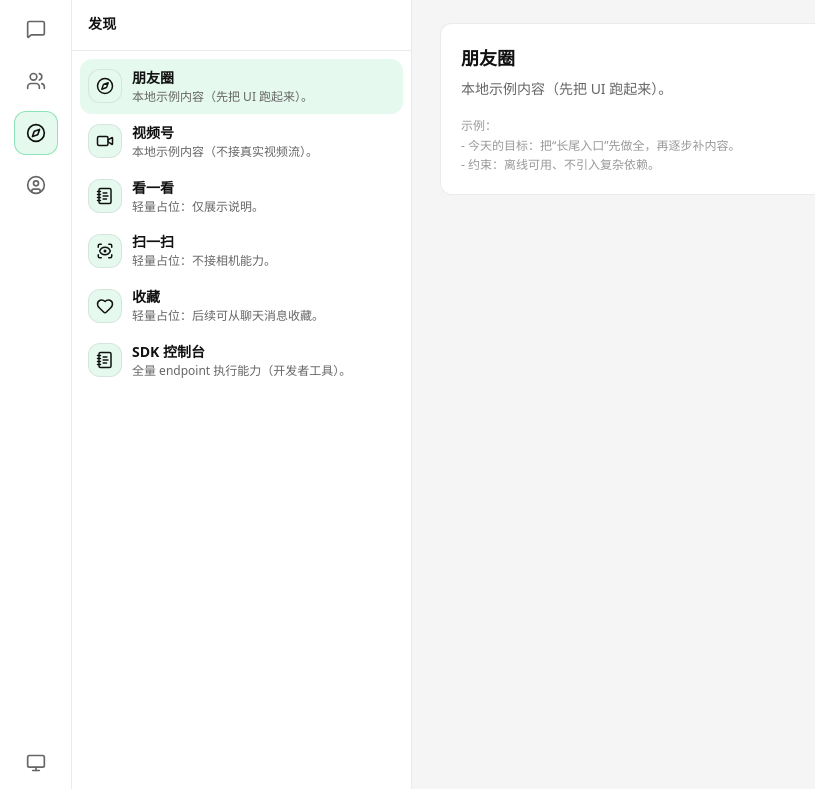
Test: DiscoverPanel › 点击发现入口会切换右栏内容（非 SDK 控制台入口）
expect the list named "发现入口列表" is shown: met, box [72,51,411,396]
expect the heading "朋友圈" is shown: met, box [461,46,515,70]
Click the text "收藏" at [146, 297], box [132,287,160,306]
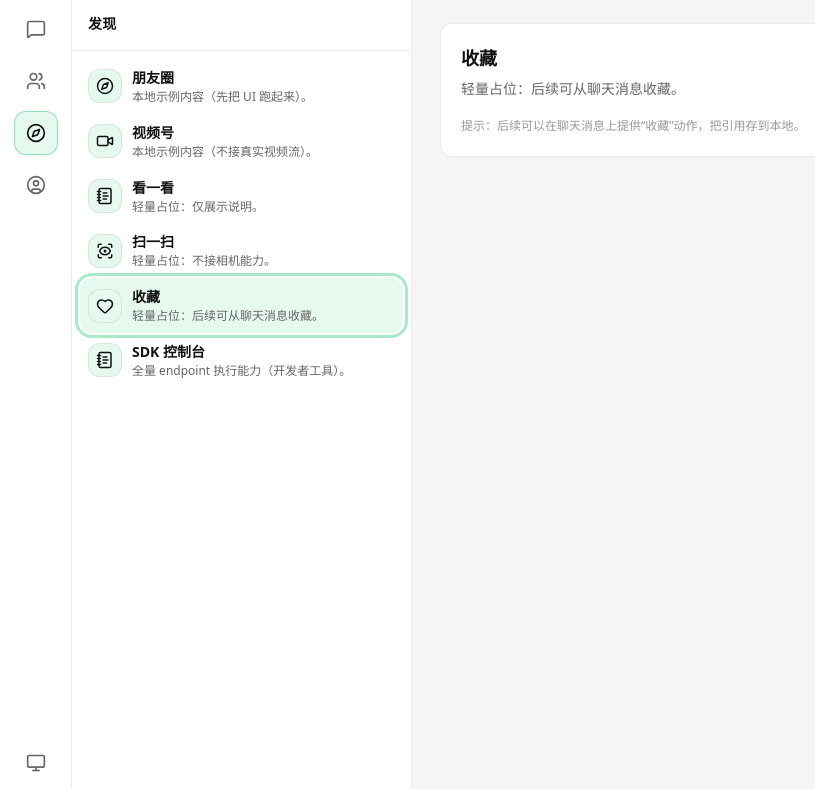
expect the heading "收藏" is shown: met, box [461,46,497,70]
Click the text "视频号" at [153, 132], box [132,123,174,142]
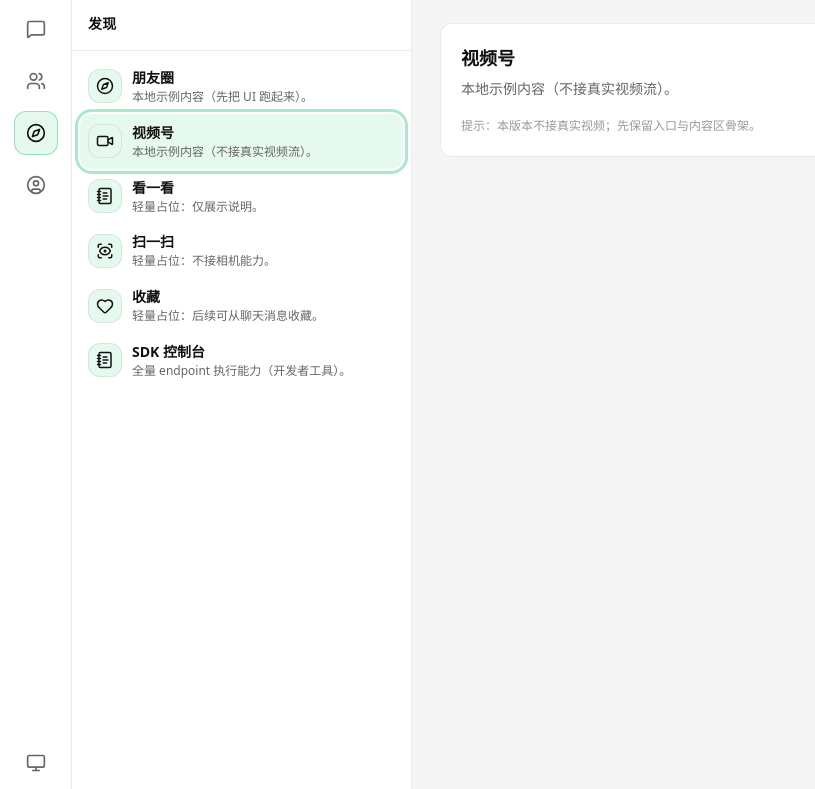
expect the heading "视频号" is shown: met, box [461,46,515,70]
